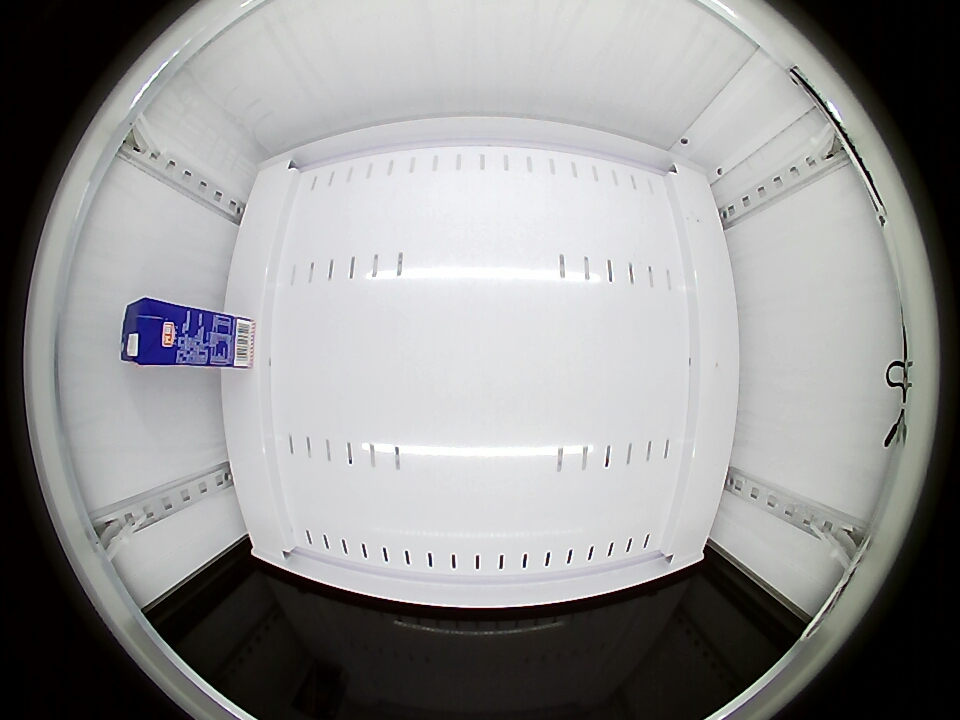bingqilinniunai: (121, 298, 187, 367)
